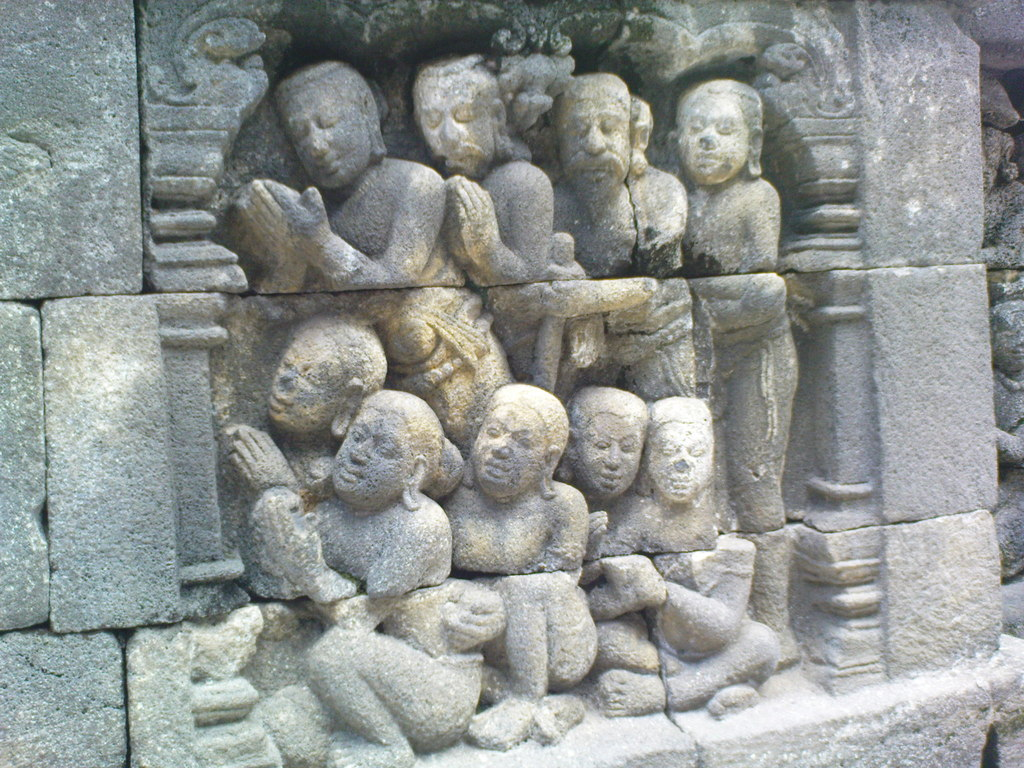Person: (232, 51, 799, 768)
